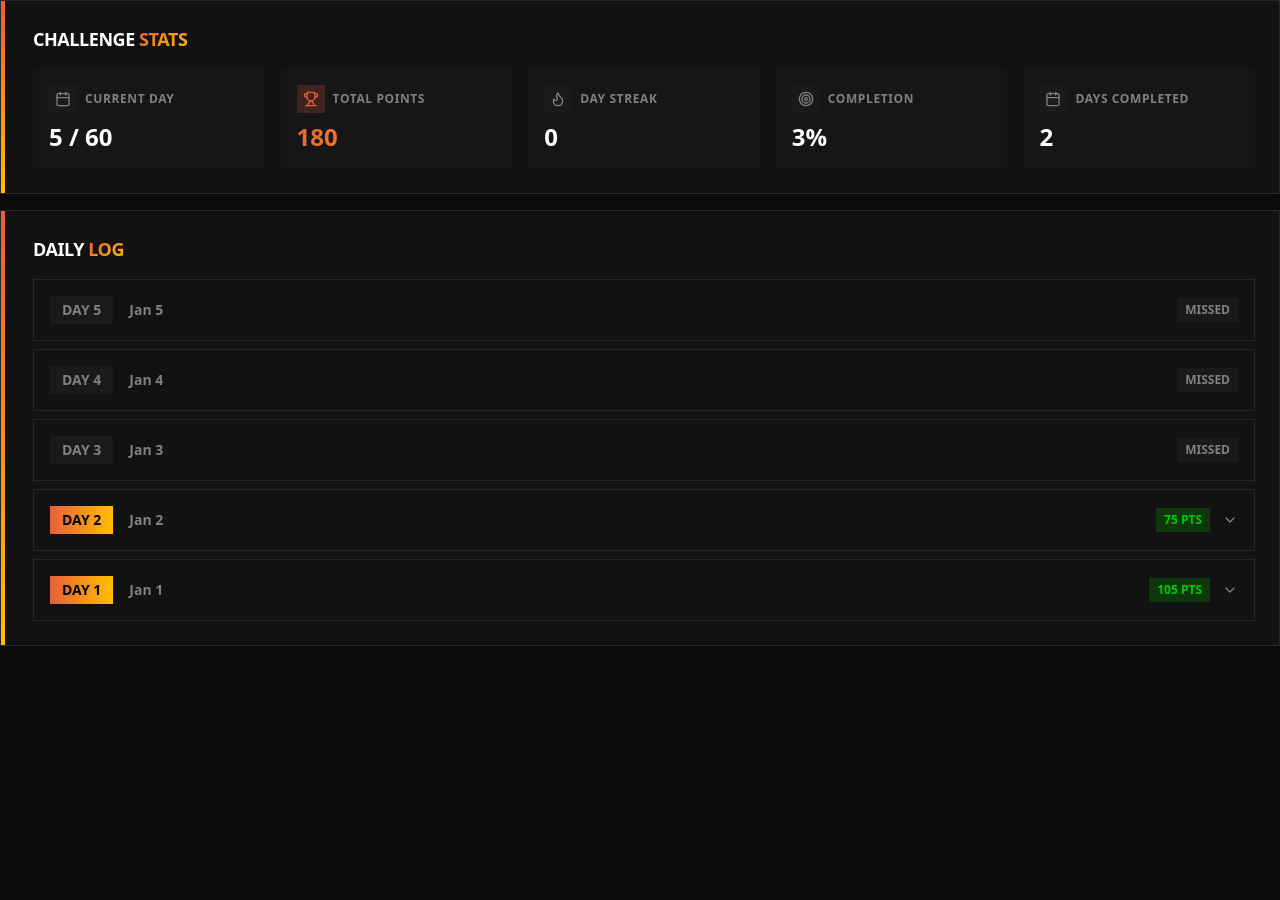
ChallengeProgressTab › expands a day entry on click to show metrics
// Click on Day 1 entry
Step 1. Click the button "Day 1 Jan 1 105 pts" → [82, 590], box [34,560,1254,620]
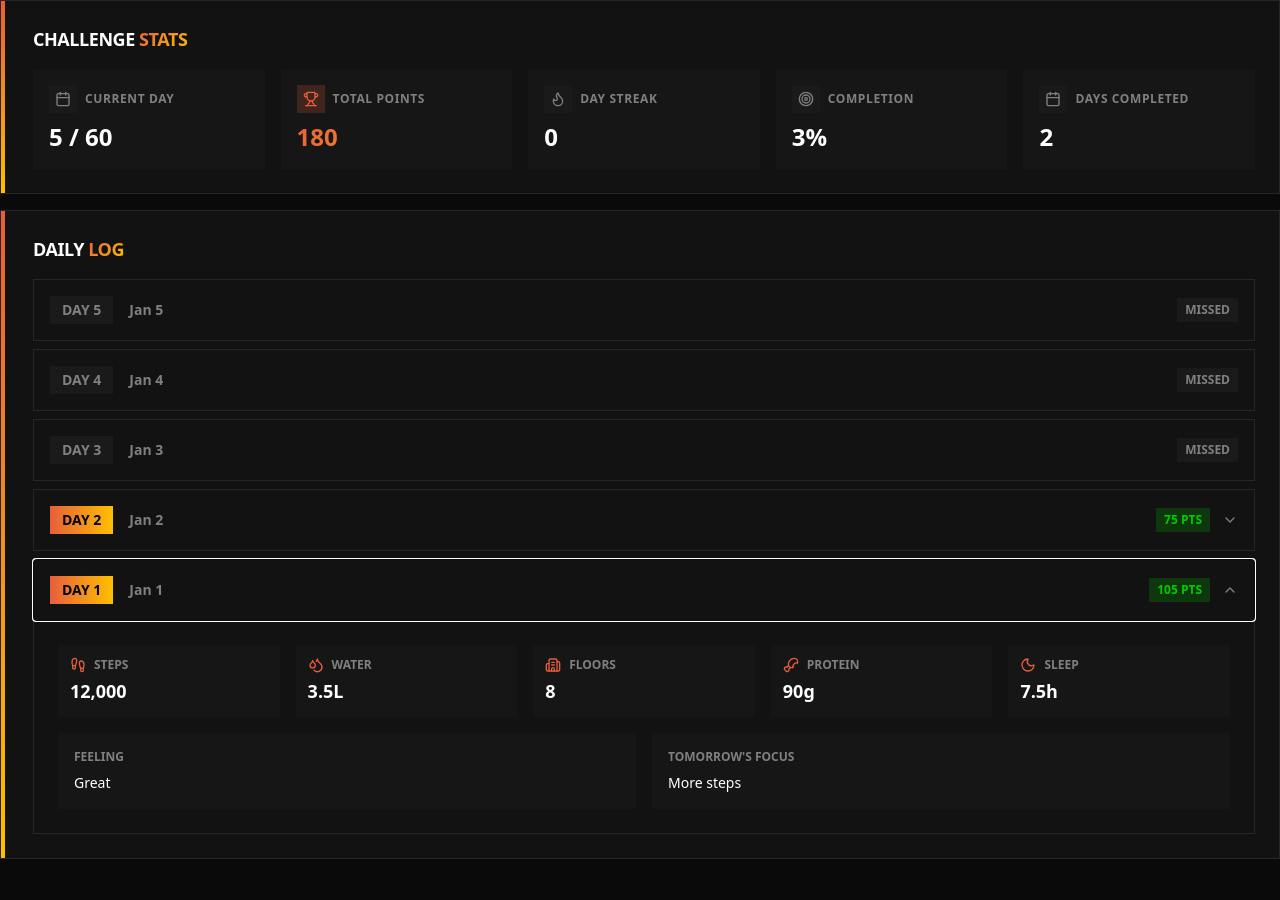
Now the text "12,000" is shown, box [70,679,127,703]
Now the text "3.5L" is shown, box [308,679,344,703]
Now the text "8" is shown, box [545,679,556,703]
